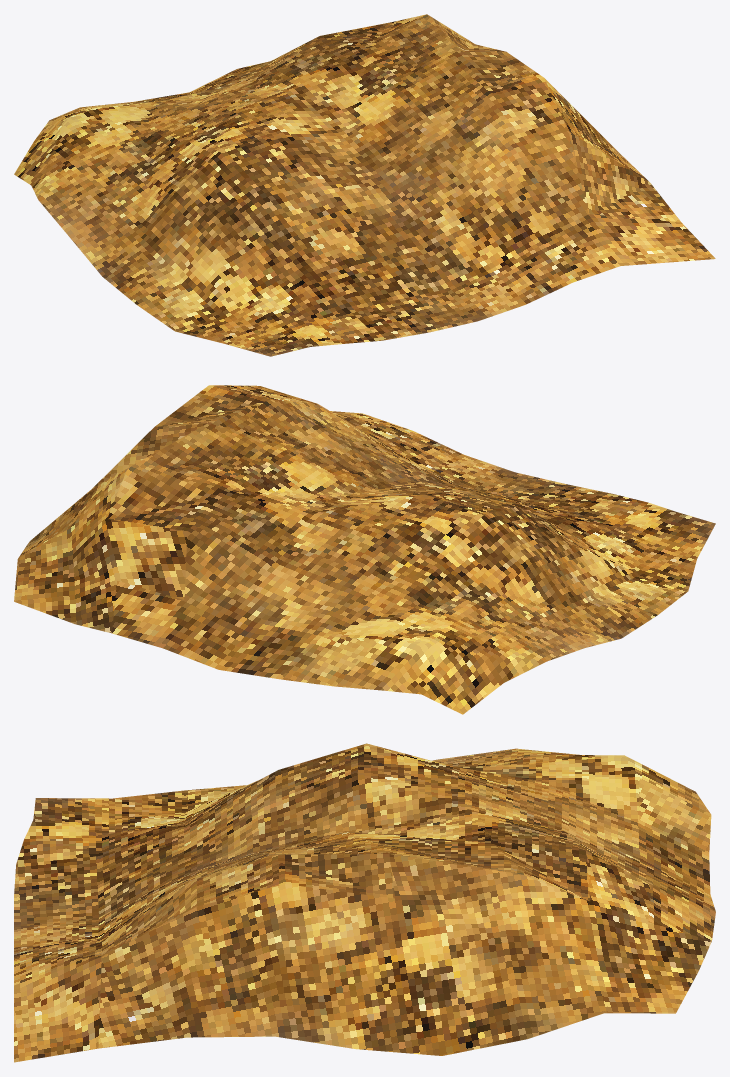
The model's file is Gold_Pile.gltf.
3 renders of one model, top to bottom at view 1: azimuth 30°, elevation 25°; view 2: azimuth 150°, elevation 25°; view 3: azimuth 270°, elevation 25°, orthographic. The views are drawn at different scales.
Parts seen in each view (by area): view 1: Gold_Pile; view 2: Gold_Pile; view 3: Gold_Pile.
Boxes of the visible parts, x1=… form: Gold_Pile: x1=14, y1=14, x2=715, y2=356; Gold_Pile: x1=14, y1=385, x2=715, y2=714; Gold_Pile: x1=14, y1=743, x2=715, y2=1062.
Size of the model in its own units: 3.68 by 0.9291 by 3.74.
Materials: 1 (1 with a texture image).
